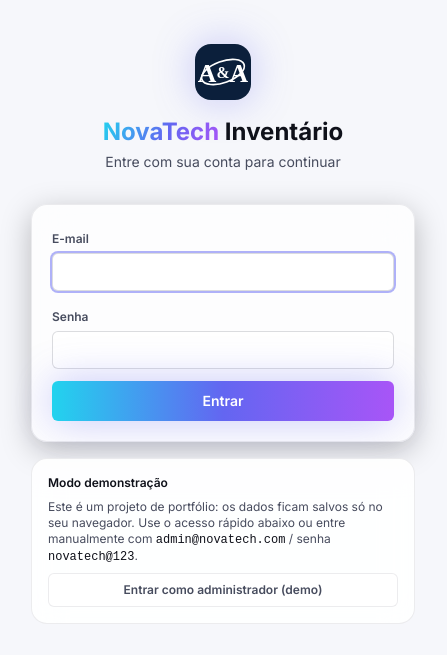
it: LoginScreen › mostra a mensagem de erro quando o login falha
The image size is (447, 655).
Step 1. Click the button "Entrar como administrador (demo)" → (223,590), box [48,573,398,607]
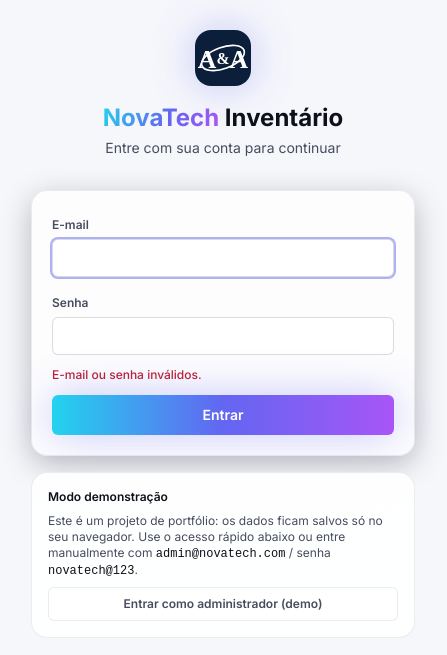
expect the text "E-mail ou senha inválidos." is shown: met, box [52,367,202,382]
